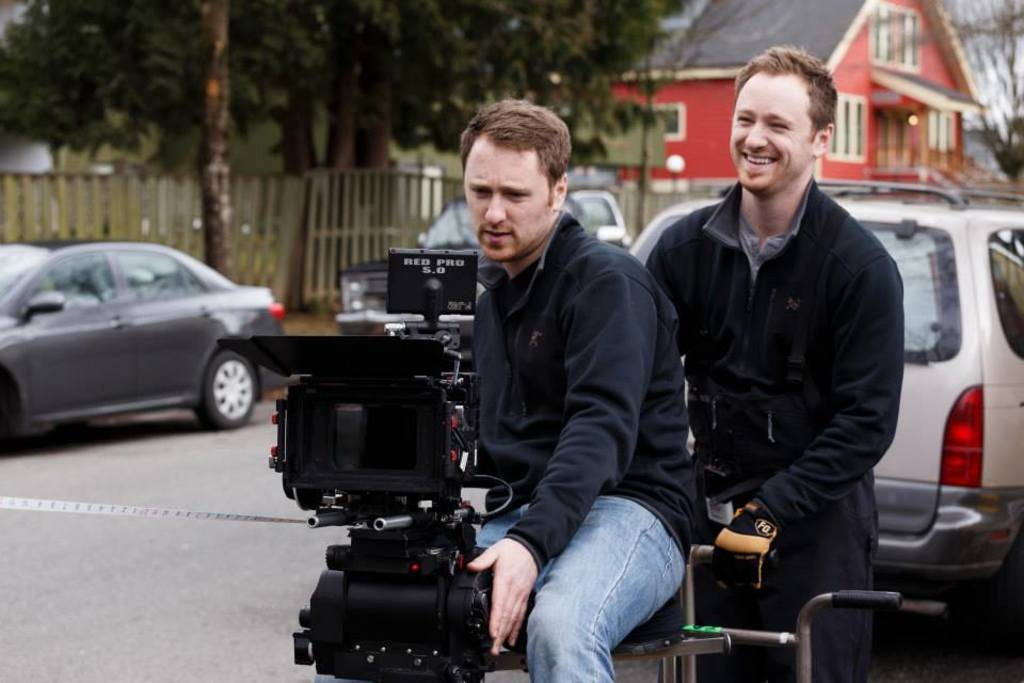Car: (629, 177, 1022, 652), (0, 240, 285, 422)
